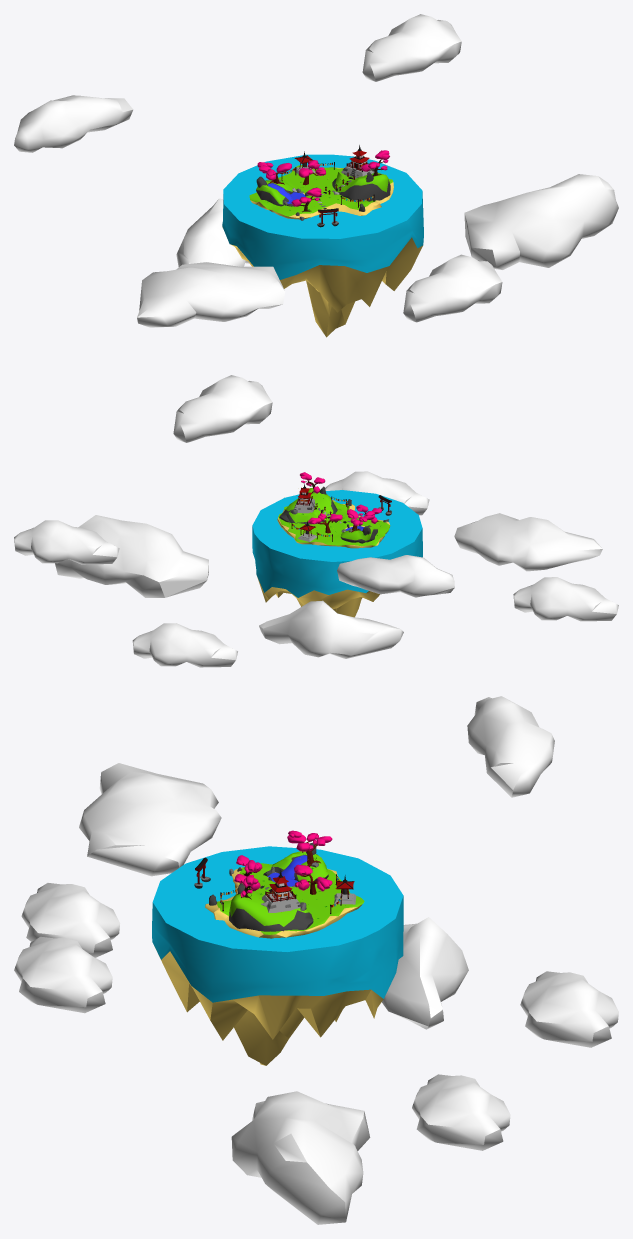
Rendered from lunar.glb.
3 views of the same model, one above another, from view 1: azimuth 30°, elevation 25°; view 2: azimuth 150°, elevation 25°; view 3: azimuth 270°, elevation 25° (orthographic). The views are drawn at different scales.
Parts seen in each view (by area): view 1: Object_5, Object_85, Object_81; view 2: Object_85, Object_81, Object_5; view 3: Object_5, Object_85, Object_81.
Part boxes in pixels (box(x1,y1,x2,y2)): Object_5: box(222, 145, 423, 337); Object_85: box(137, 14, 502, 442); Object_81: box(14, 95, 618, 269); Object_85: box(14, 471, 618, 667); Object_81: box(55, 515, 454, 658); Object_5: box(252, 472, 422, 617); Object_5: box(152, 830, 403, 1065); Object_85: box(14, 763, 618, 1150); Object_81: box(231, 696, 554, 1224).
Size of the model in its own units: 1302 by 458 by 975.
Materials: 3 (1 with a texture image).
